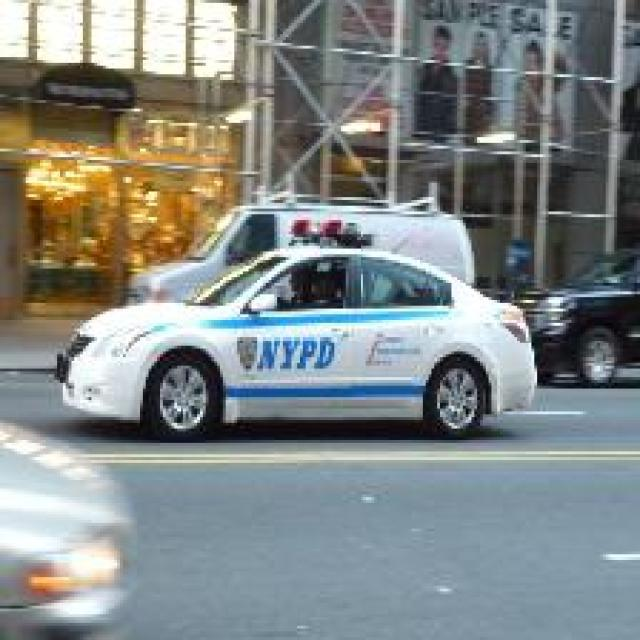emergency: (52, 205, 540, 442)
